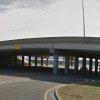Bridge: (3, 31, 98, 76)
